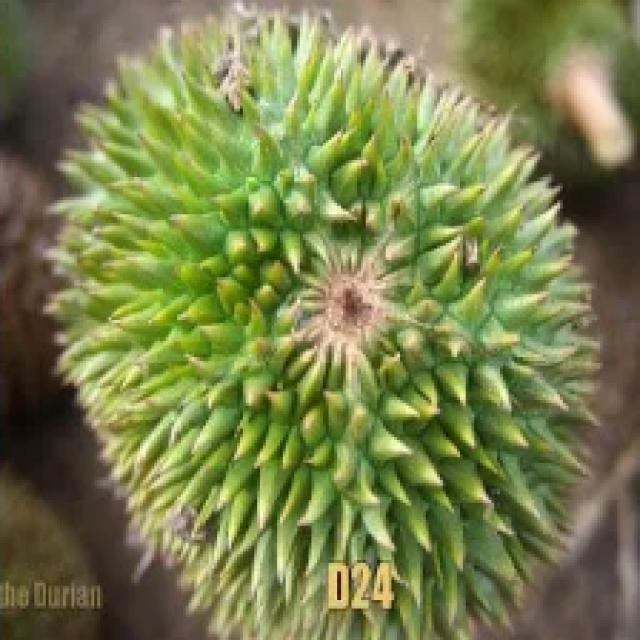d24: (55, 33, 577, 615)
